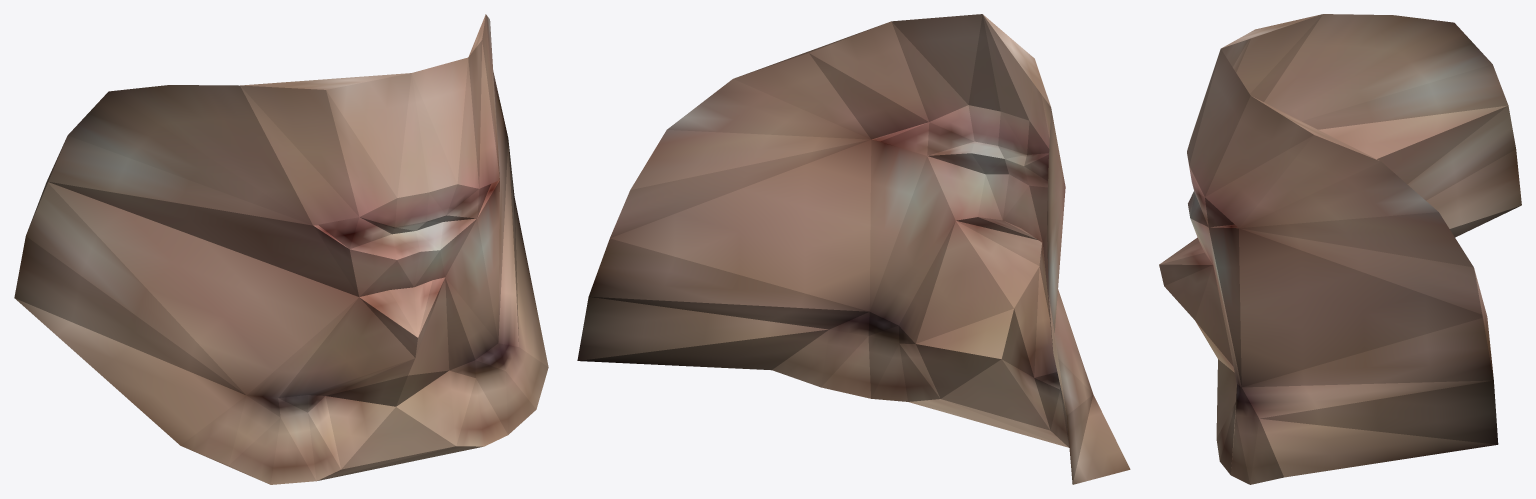
Rendered from fake_14882.obj.
3 views of the same model, side by side, from view 1: azimuth 30°, elevation 25°; view 2: azimuth 150°, elevation 25°; view 3: azimuth 270°, elevation 25° (orthographic). The views are drawn at different scales.
Size of the model in its own units: 115 by 88 by 76.43.
